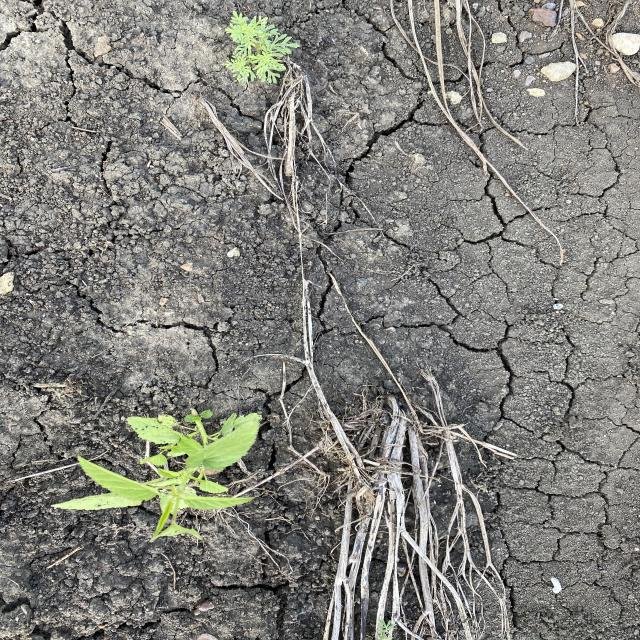PricklySida: (48, 408, 266, 544)
Ragweed: (220, 8, 302, 88)
